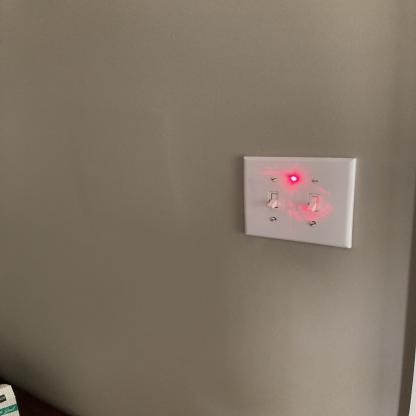target: (284, 168, 303, 191)
